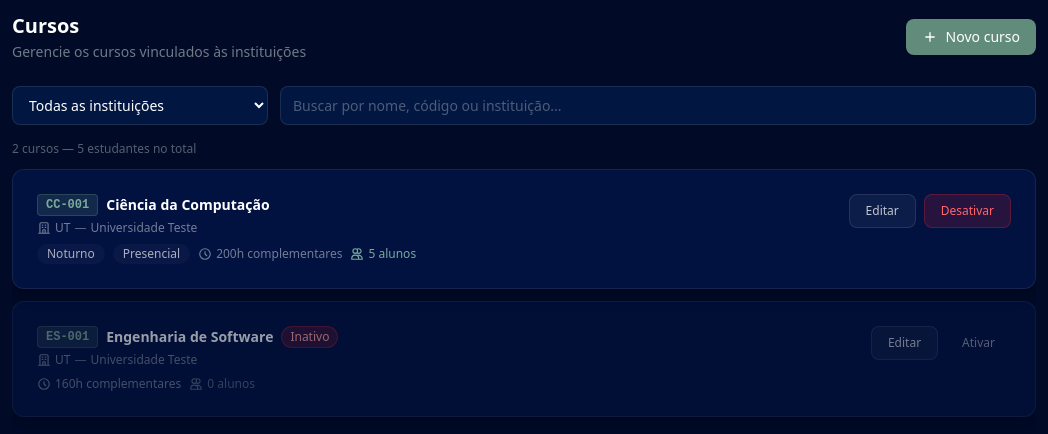
Scenario: Cursos — filtros › filtra cursos por busca de nome
The image size is (1048, 434).
expect the heading "Ciência da Computação" is shown: met, box [106,195,270,215]
Type "Engenharia" into the field with placeholder "Buscar por nome, código ou instituição..." at (658, 106), box [280,86,1036,125]
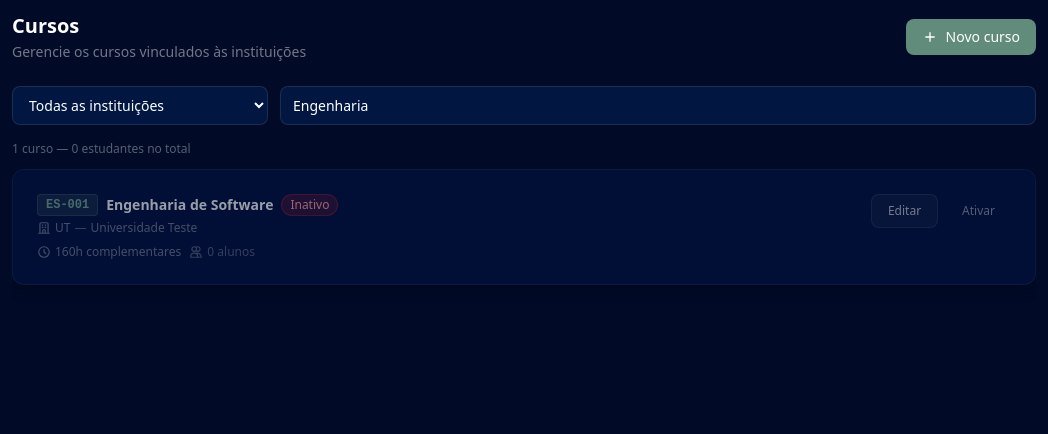
expect the heading "Engenharia de Software" is shown: met, box [106,195,273,215]
expect the heading "Ciência da Computação" is gone: met
